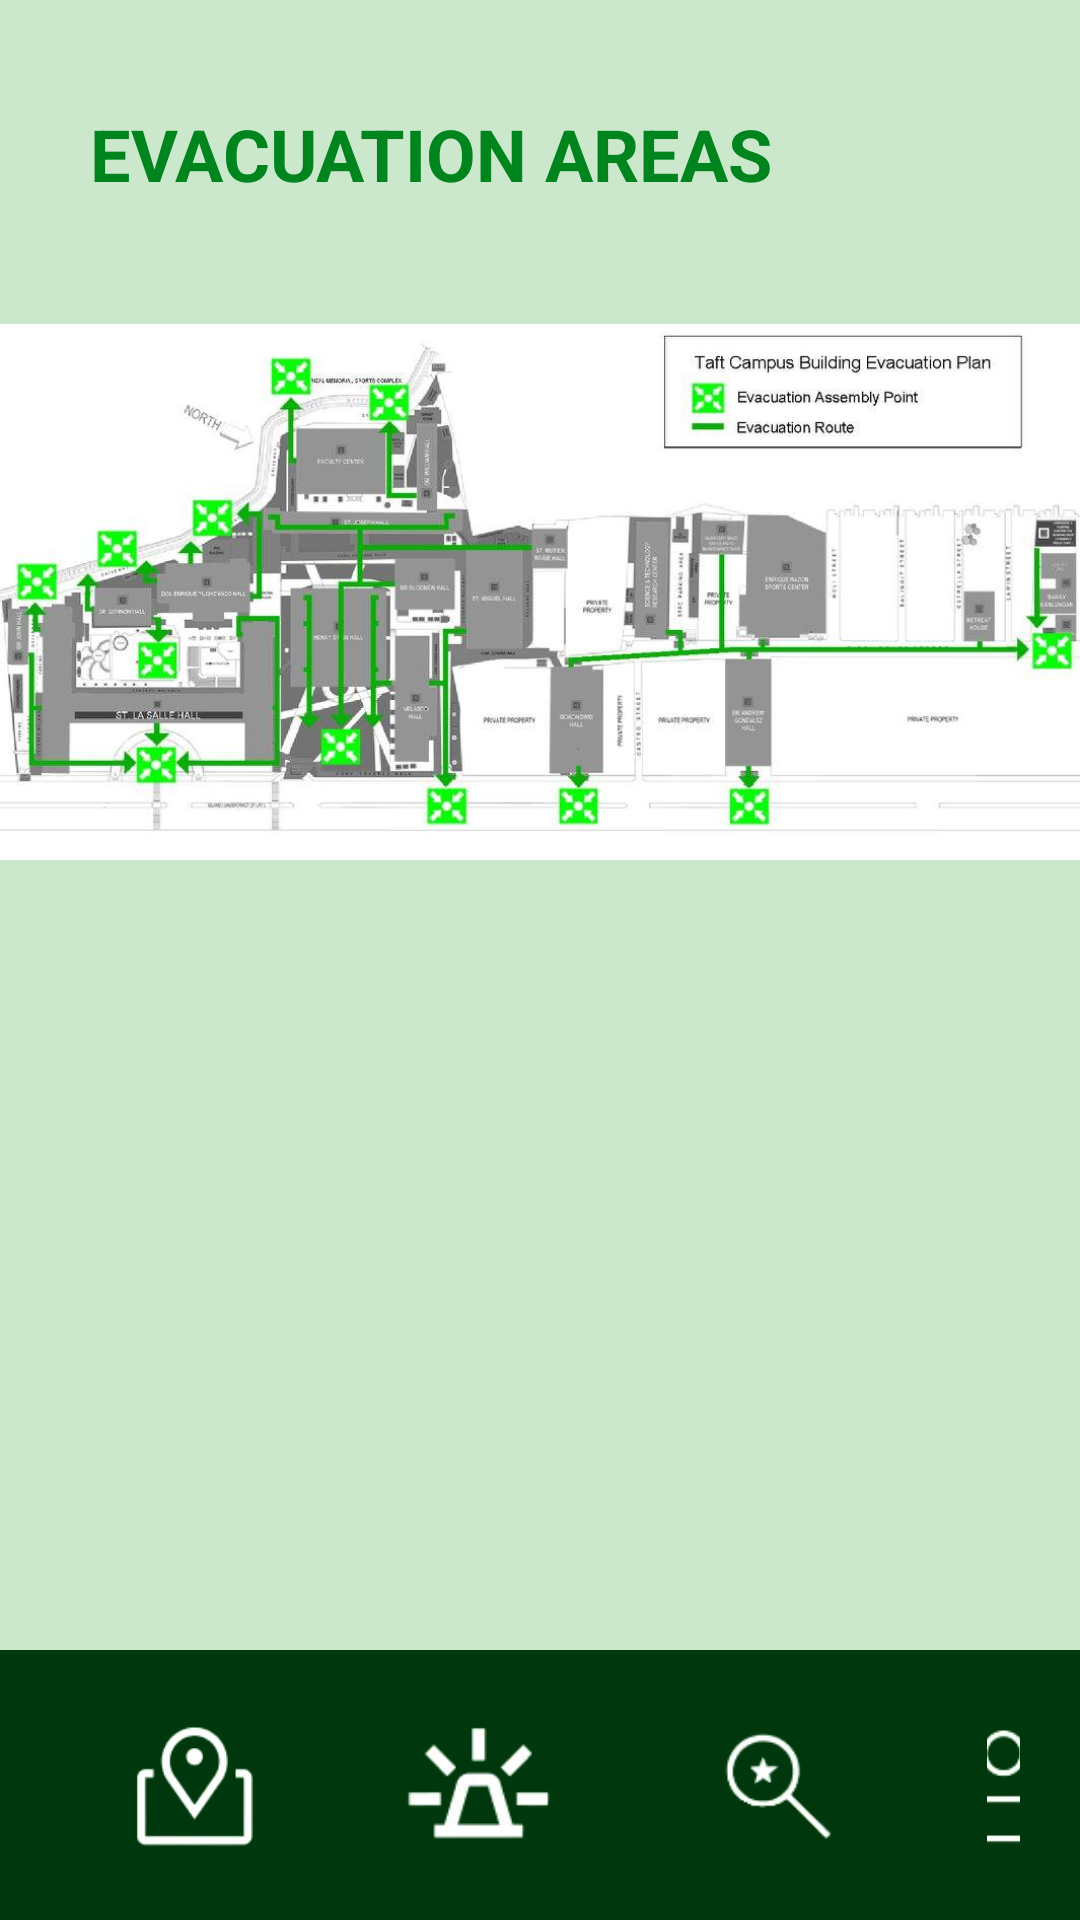

Named icons in this screenshot (1080x1920) and their bounding boxes, [x1,y1,x2,y2]:
Campus Map: [137,1727,253,1846]
Emergency: [408,1728,550,1839]
